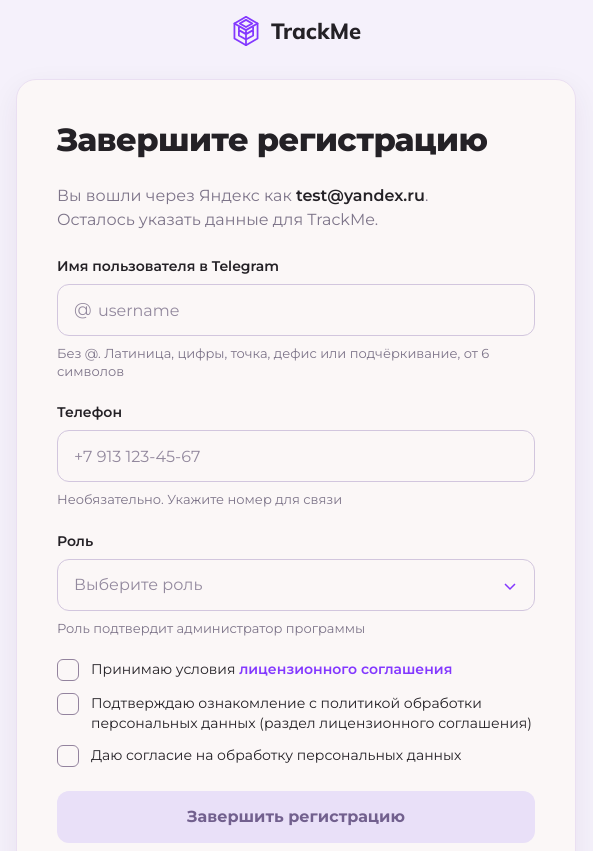
Test: loads confirmed profile, strips @, requires all consents and submits with session CSRF
Expected: the text "test@yandex.ru" is shown, [296,186,425,205]
Expected: the button "Завершить регистрацию" is disabled, [57,791,535,843]
Step 1. Type "@newuser" into the field labelled "Имя пользователя в Telegram" → (296,310), box [57,284,535,336]
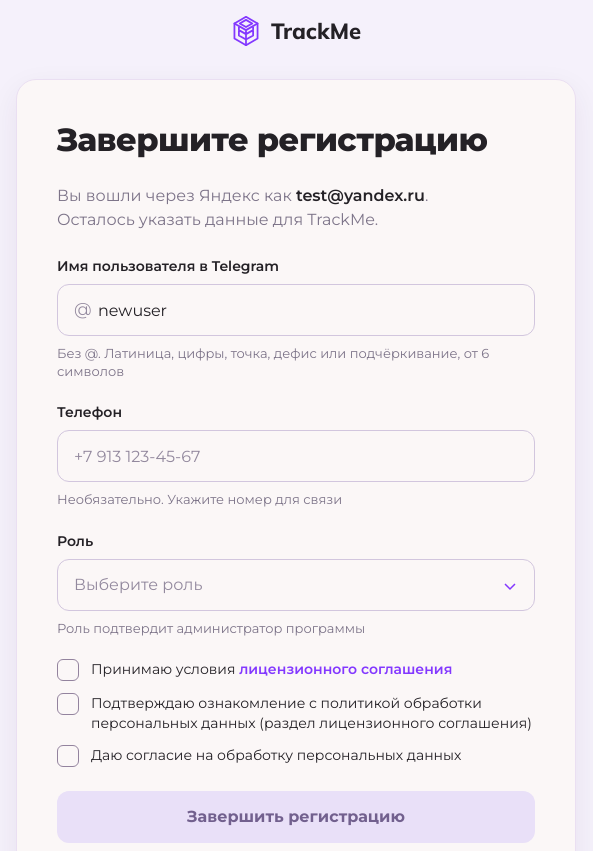
Expected: the field labelled "Имя пользователя в Telegram" holds "newuser", [57,284,535,336]
Step 2. Select "Трекер" in the dropdown labelled "Роль" → (296,585), box [57,559,535,611]
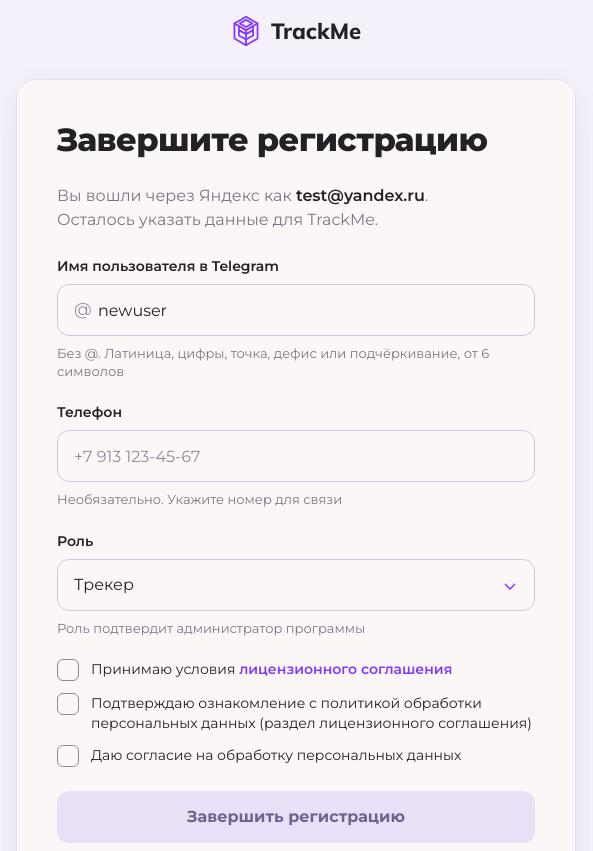
Step 3. Click the checkbox labelled "Принимаю условия" → (68,670), box [57,659,79,681]
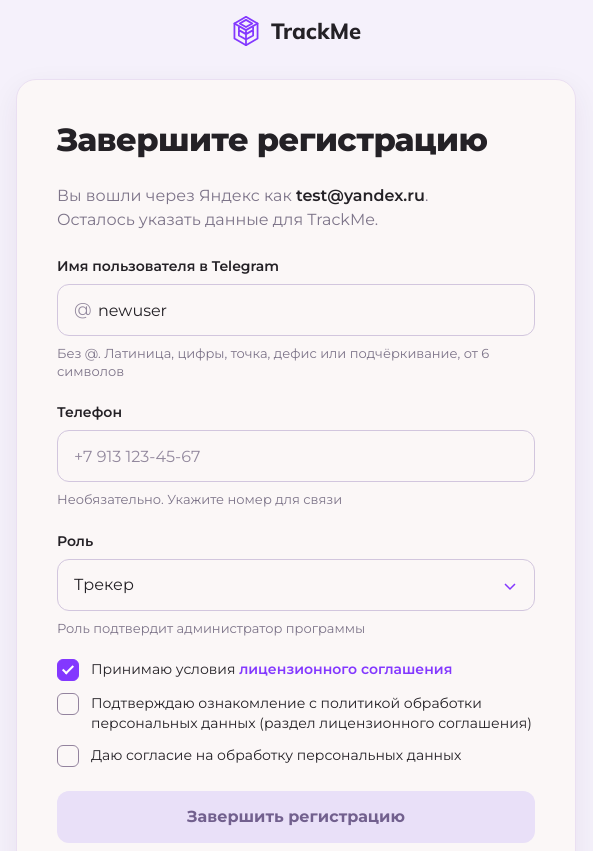
Step 4. Click the checkbox named "Подтверждаю ознакомление с политикой обработки персональных" → (68,704), box [57,693,79,715]
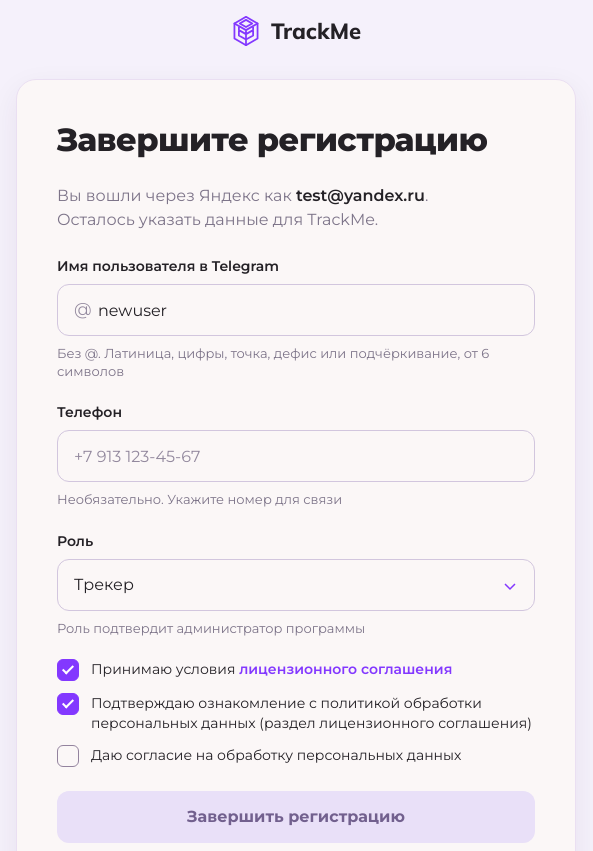
Step 5. Click the checkbox labelled "Даю согласие на обработку персональных данных" → (68,756), box [57,745,79,767]
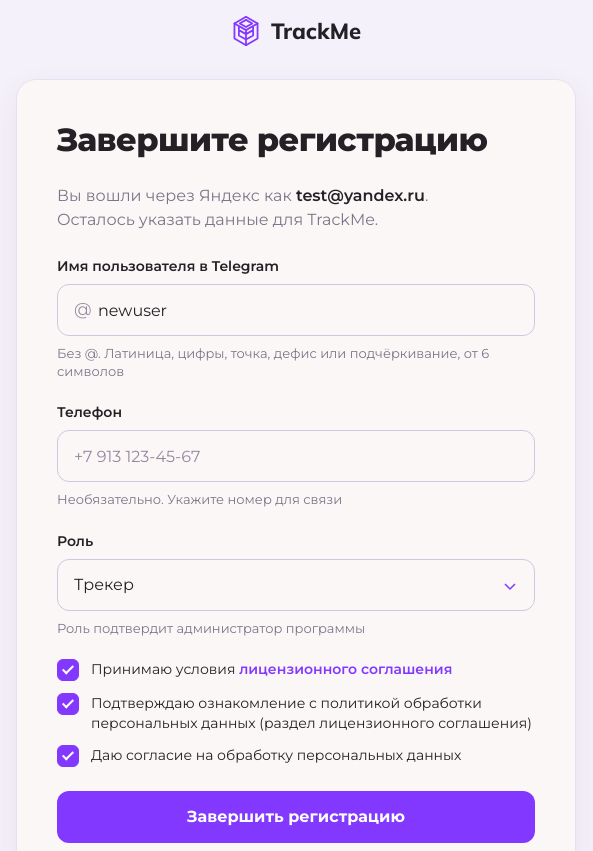
Expected: the button "Завершить регистрацию" is enabled
Step 6. Click the button "Завершить регистрацию" → (296,817), box [57,791,535,843]
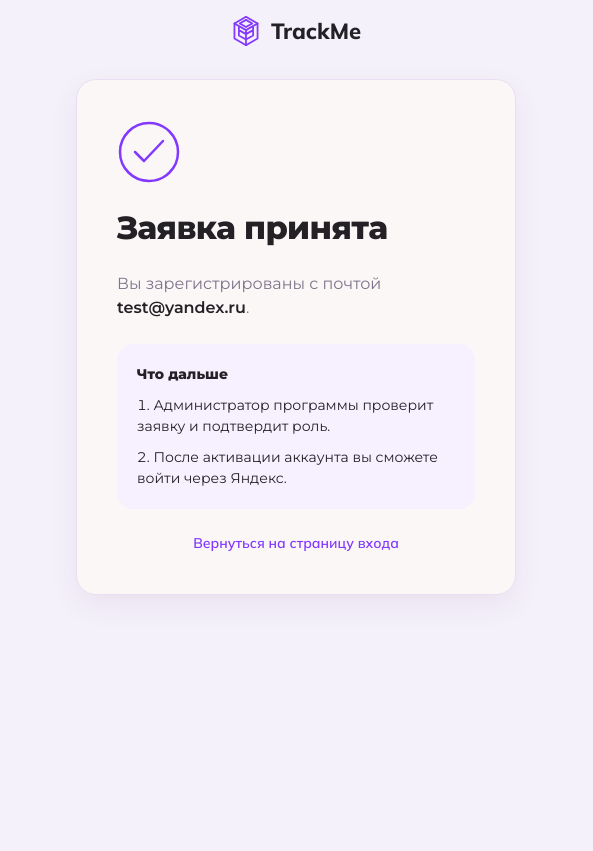
Expected: the heading "Заявка принята" is shown, [117,208,388,247]
Expected: the checkbox is gone
